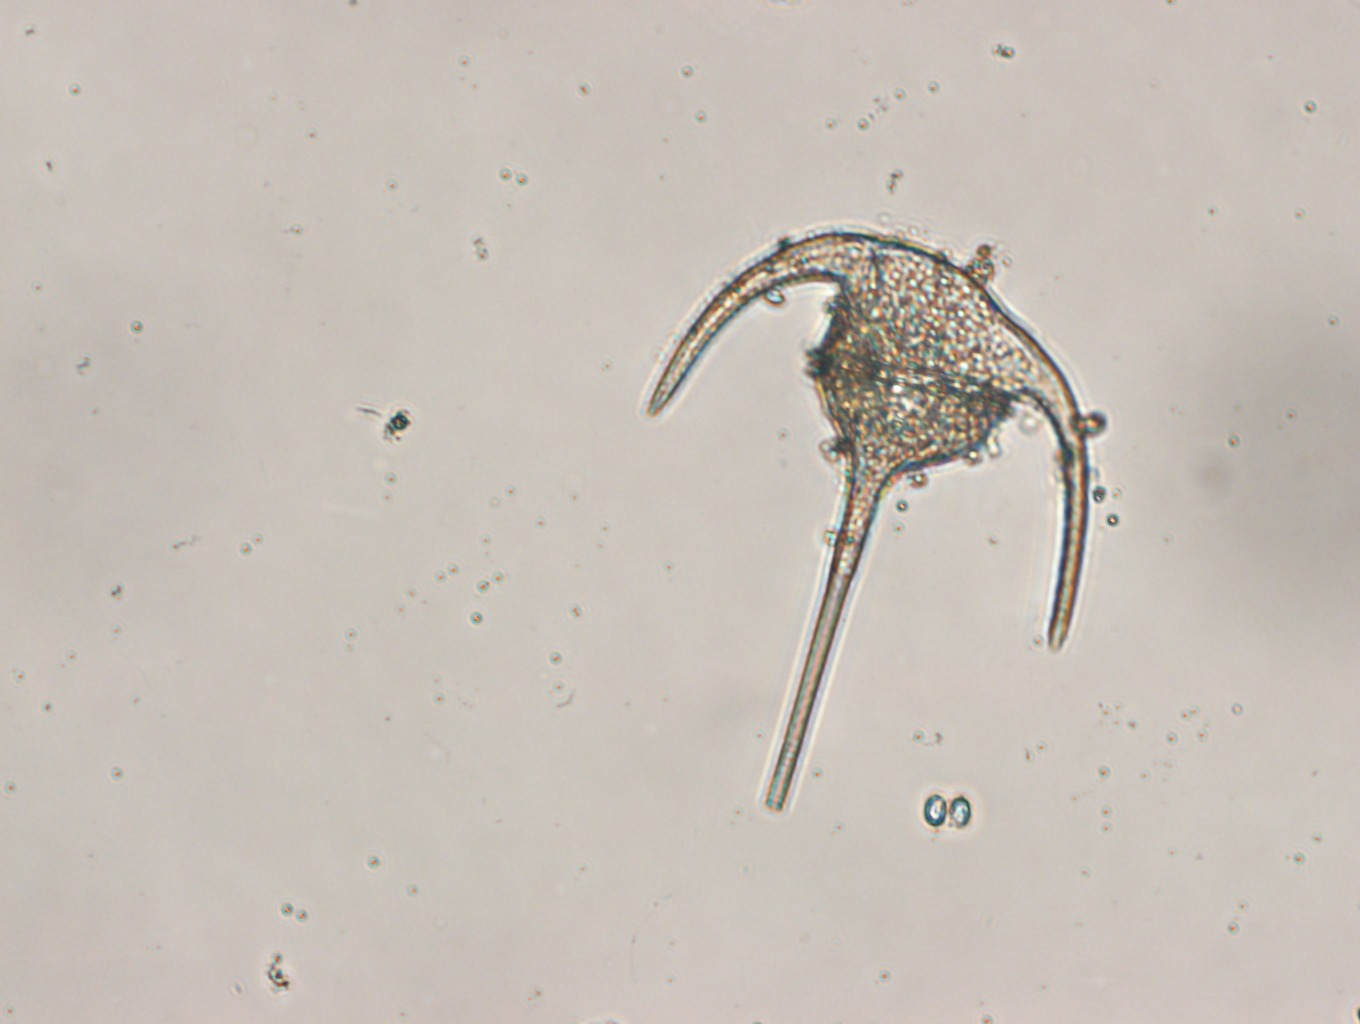ceratium tripos: (644, 228, 1090, 813)
